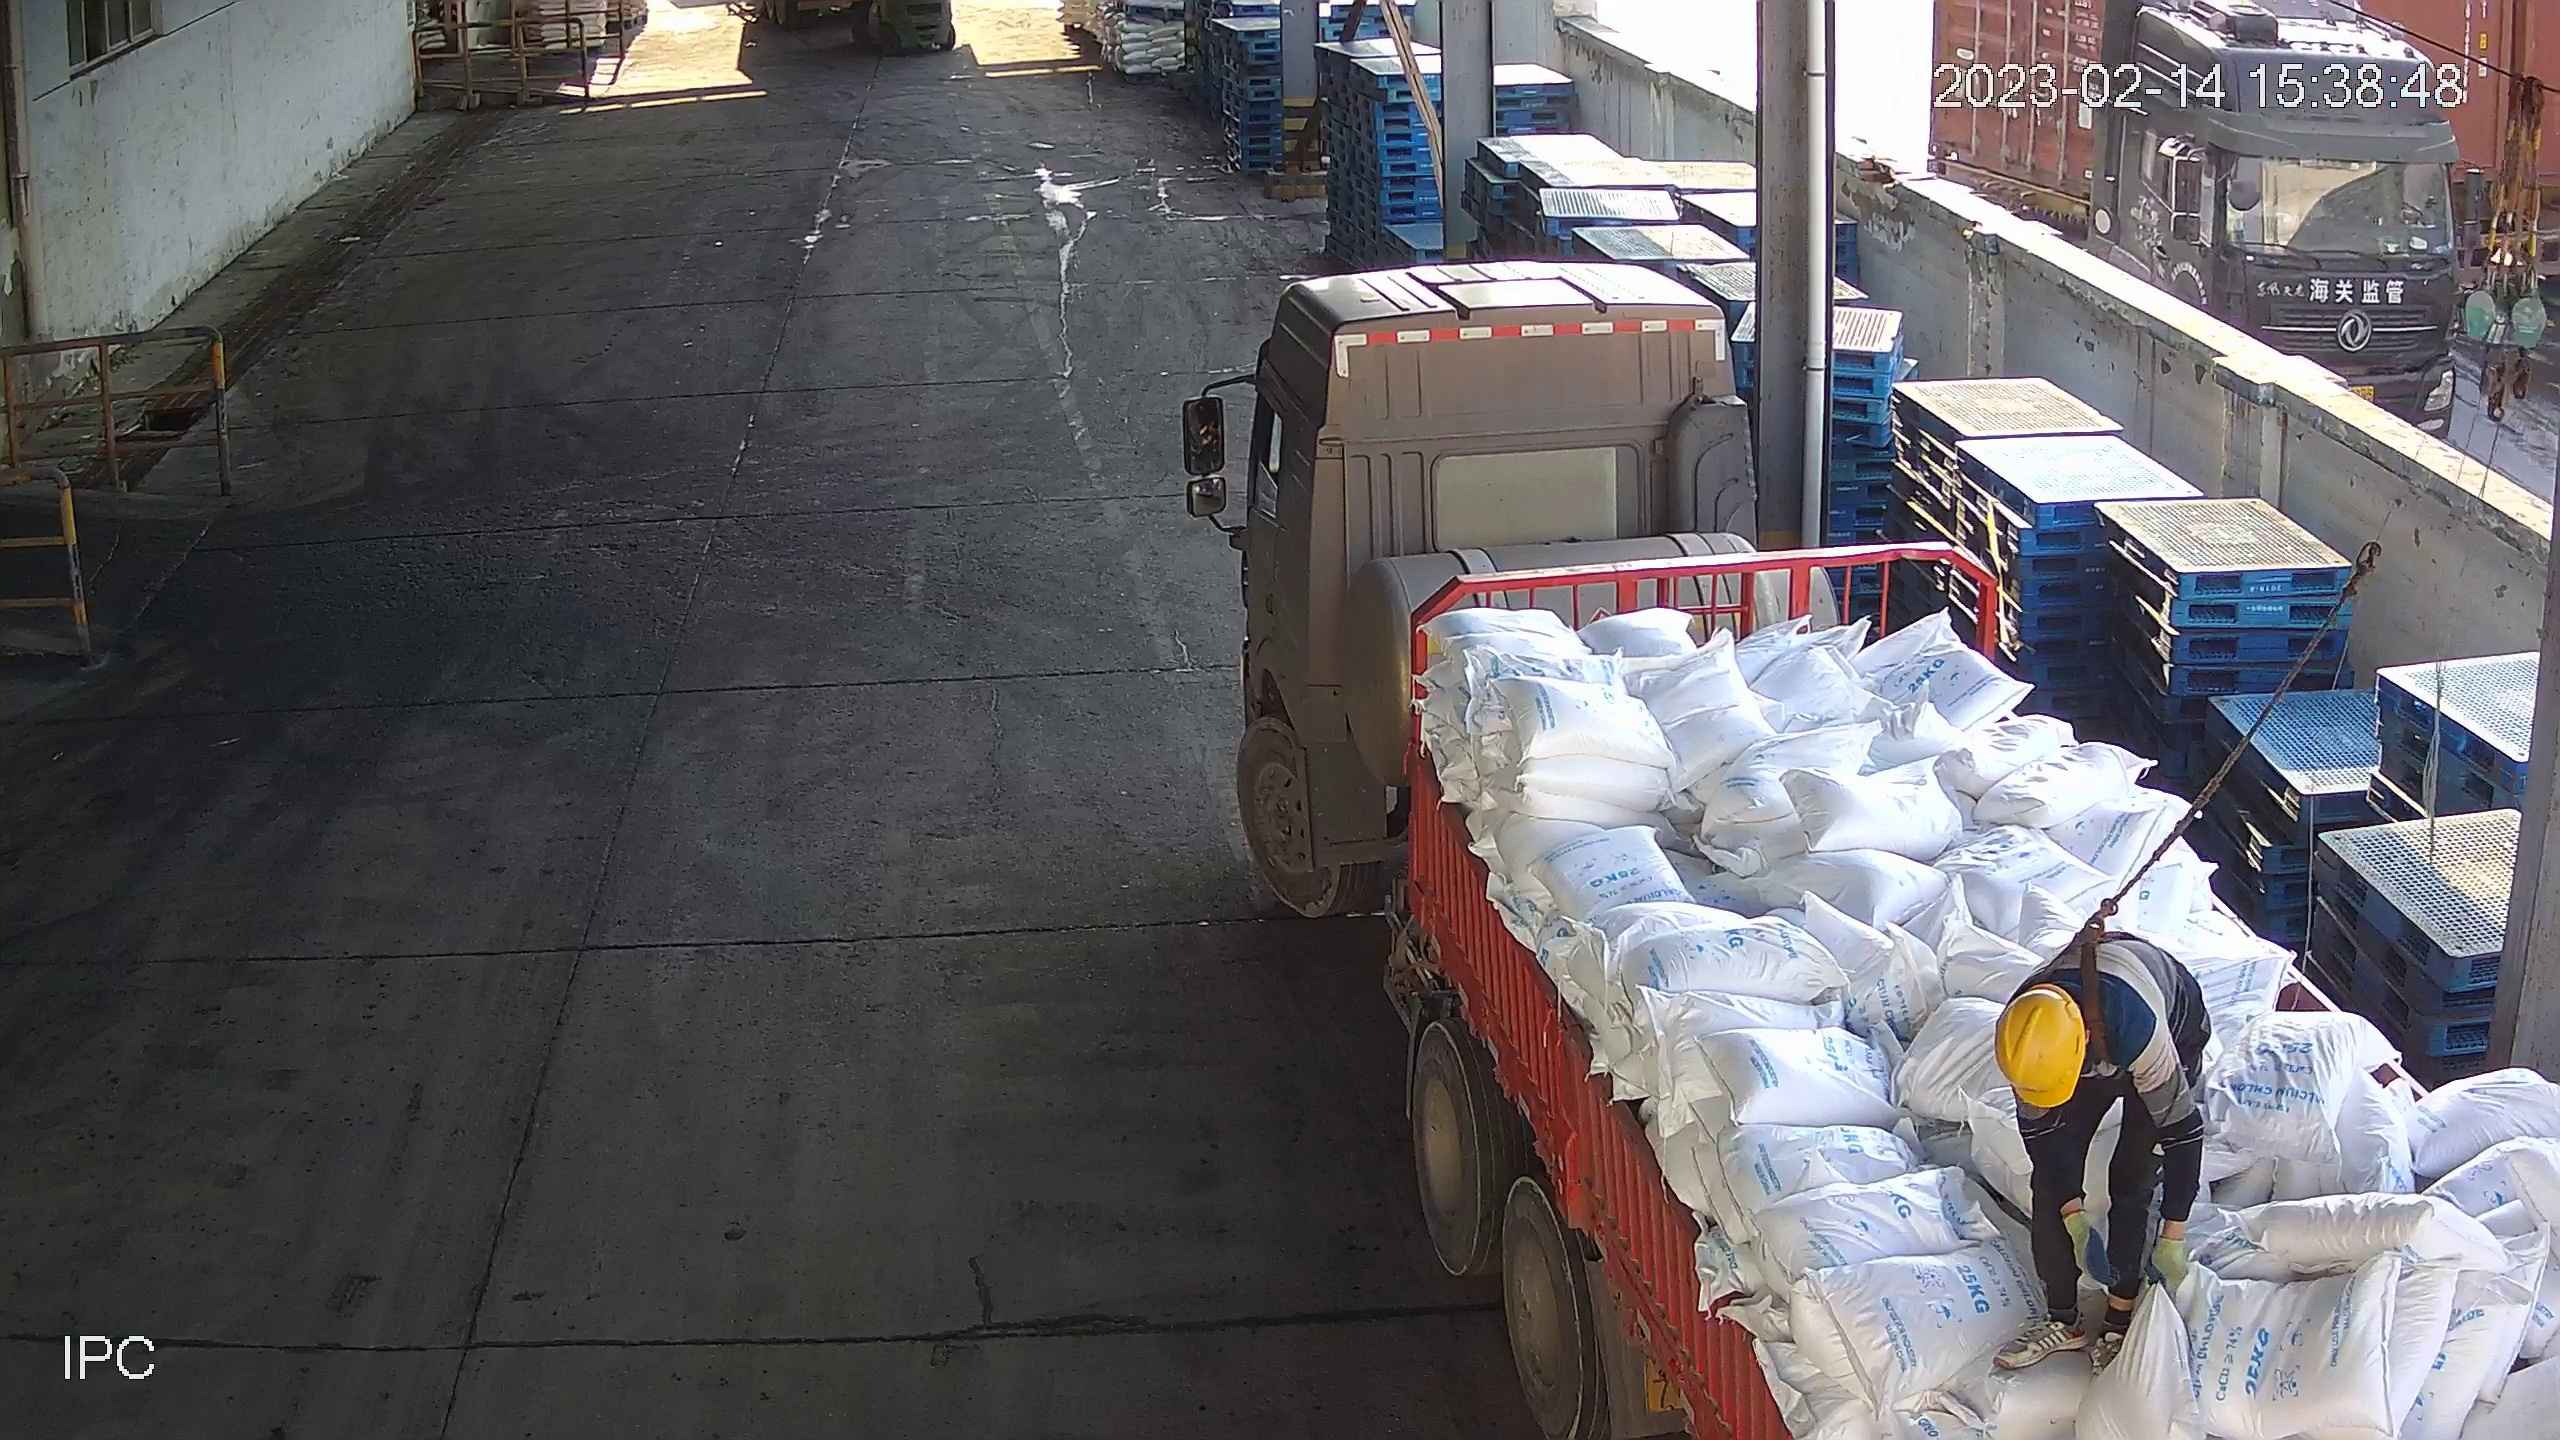belt: (2032, 894, 2147, 1010)
head: (1995, 934, 2148, 1108)
helmet: (1992, 983, 2088, 1109)
people: (1995, 929, 2221, 1386)
truck: (1174, 253, 2560, 1440)
